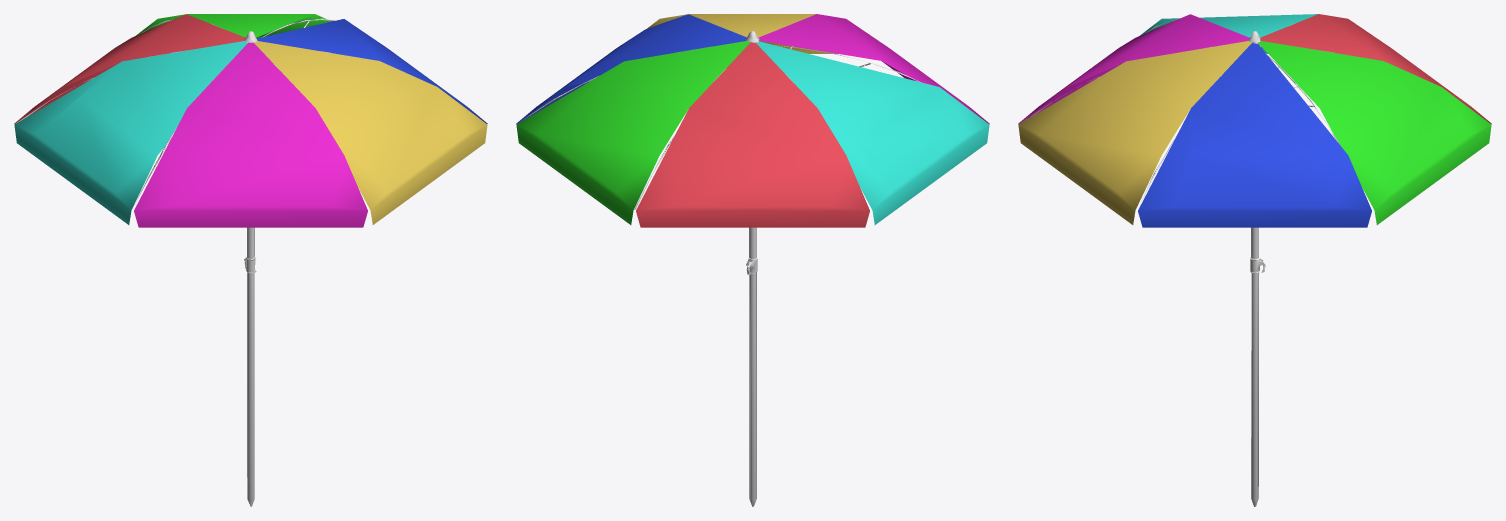
Rendered from du-bien.glb.
3 renders of one model, left to right at view 1: azimuth 30°, elevation 25°; view 2: azimuth 150°, elevation 25°; view 3: azimuth 270°, elevation 25°, orthographic.
Visible parts, largest first — view 1: Sphere.002, Cylinder, Cylinder.001, Sphere.001; view 2: Sphere.002, Cylinder, Sphere.001, Cylinder.001; view 3: Sphere.002, Cylinder, Cylinder.001.
Part boxes in pixels (left/top/right/bottom): Sphere.002: left=14, top=14, right=487, bottom=227; Cylinder: left=247, top=250, right=254, bottom=506; Cylinder.001: left=244, top=31, right=257, bottom=273; Sphere.001: left=16, top=18, right=334, bottom=203; Sphere.002: left=516, top=14, right=989, bottom=227; Cylinder: left=749, top=251, right=756, bottom=506; Sphere.001: left=520, top=20, right=920, bottom=210; Cylinder.001: left=746, top=31, right=759, bottom=274; Sphere.002: left=1018, top=14, right=1491, bottom=227; Cylinder: left=1251, top=251, right=1258, bottom=506; Cylinder.001: left=1248, top=31, right=1265, bottom=273.
Bounding box in the file's own units: 0.7828 × 0.9989 × 0.901.
